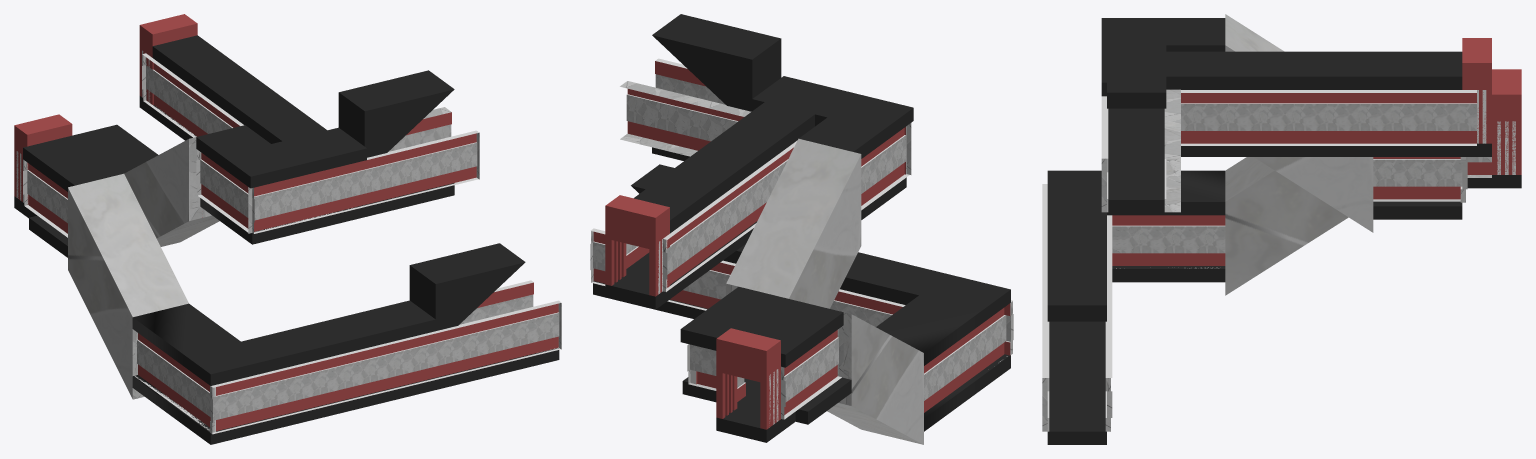
Rendered from Corridor_uv.fbx.
3 renders of one model, left to right at view 1: azimuth 30°, elevation 25°; view 2: azimuth 150°, elevation 25°; view 3: azimuth 270°, elevation 25°, orthographic. The views are drawn at different scales.
Visible parts, largest first — view 1: A_wall_coridor_2x4x6_33, A_wall_coridor_2x4x6_24, A_stairs_coridor_10x14x3_9, A_bridge_coridor_1x4x8_34, A_bridge_coridor_1x4x10_24, A_bridge_coridor_1x4x10_23, A_bridge_coridor_1x4x10_27, A_stairs_coridor_10x14x3_8, A_bridge_coridor_1x4x10_17, A_bridge_coridor_1x4x8_37, A_bridge_coridor_1x4x10_30, A_wall_coridor_2x4x6_18 (+3 smaller); view 2: A_wall_coridor_2x4x6_24, A_stairs_coridor_10x14x3_8, A_bridge_coridor_1x4x8_34, A_bridge_coridor_1x4x10_24, A_stairs_coridor_10x14x3_9, A_wall_coridor_2x4x6_33, A_bridge_coridor_1x4x10_27, A_bridge_coridor_1x4x8_37, A_portal_short_light_cube_5, A_wall_coridor_2x4x6_18, A_portal_short_light_cube_3, A_bridge_coridor_1x4x6_38 (+3 smaller); view 3: A_wall_coridor_2x4x6_24, A_bridge_coridor_1x4x8_34, A_bridge_coridor_1x4x10_30, A_stairs_coridor_10x14x3_9, A_bridge_coridor_1x4x10_17, A_wall_coridor_2x4x6_33, A_bridge_coridor_1x4x10_24, A_stairs_coridor_10x14x3_8, A_wall_coridor_2x4x6_18, A_bridge_coridor_1x4x10_23, A_bridge_coridor_1x4x10_27, A_portal_short_light_cube_5 (+2 smaller).
Part boxes in pixels (x1=…): A_wall_coridor_2x4x6_33: x1=132, y1=280, x2=561, y2=434; A_wall_coridor_2x4x6_24: x1=142, y1=53, x2=479, y2=233; A_stairs_coridor_10x14x3_9: x1=68, y1=173, x2=188, y2=399; A_bridge_coridor_1x4x8_34: x1=152, y1=35, x2=366, y2=188; A_bridge_coridor_1x4x10_24: x1=132, y1=300, x2=435, y2=385; A_bridge_coridor_1x4x10_23: x1=409, y1=243, x2=525, y2=330; A_bridge_coridor_1x4x10_27: x1=338, y1=70, x2=454, y2=157; A_stairs_coridor_10x14x3_8: x1=124, y1=137, x2=219, y2=246; A_bridge_coridor_1x4x10_17: x1=132, y1=348, x2=559, y2=444; A_bridge_coridor_1x4x8_37: x1=23, y1=124, x2=158, y2=191; A_bridge_coridor_1x4x10_30: x1=139, y1=96, x2=454, y2=244; A_wall_coridor_2x4x6_18: x1=23, y1=160, x2=67, y2=237; A_wall_coridor_2x4x6_24: x1=620, y1=58, x2=911, y2=291; A_stairs_coridor_10x14x3_8: x1=726, y1=138, x2=861, y2=308; A_bridge_coridor_1x4x8_34: x1=634, y1=76, x2=913, y2=233; A_bridge_coridor_1x4x10_24: x1=731, y1=244, x2=1010, y2=365; A_stairs_coridor_10x14x3_9: x1=827, y1=312, x2=923, y2=444; A_wall_coridor_2x4x6_33: x1=590, y1=228, x2=1013, y2=412; A_bridge_coridor_1x4x10_27: x1=652, y1=14, x2=781, y2=111; A_bridge_coridor_1x4x8_37: x1=680, y1=286, x2=843, y2=367; A_portal_short_light_cube_5: x1=716, y1=328, x2=780, y2=429; A_wall_coridor_2x4x6_18: x1=687, y1=325, x2=843, y2=419; A_portal_short_light_cube_3: x1=605, y1=195, x2=669, y2=296; A_bridge_coridor_1x4x6_38: x1=682, y1=377, x2=851, y2=442; A_wall_coridor_2x4x6_24: x1=1101, y1=89, x2=1476, y2=212; A_bridge_coridor_1x4x8_34: x1=1101, y1=18, x2=1462, y2=96; A_bridge_coridor_1x4x10_30: x1=1107, y1=108, x2=1491, y2=213; A_stairs_coridor_10x14x3_9: x1=1225, y1=157, x2=1348, y2=295; A_bridge_coridor_1x4x10_17: x1=1047, y1=266, x2=1225, y2=444; A_wall_coridor_2x4x6_33: x1=1042, y1=184, x2=1225, y2=431; A_bridge_coridor_1x4x10_24: x1=1047, y1=170, x2=1225, y2=255; A_stairs_coridor_10x14x3_8: x1=1225, y1=14, x2=1373, y2=232; A_wall_coridor_2x4x6_18: x1=1373, y1=157, x2=1491, y2=202; A_bridge_coridor_1x4x10_23: x1=1047, y1=255, x2=1106, y2=321; A_bridge_coridor_1x4x10_27: x1=1107, y1=42, x2=1166, y2=108; A_portal_short_light_cube_5: x1=1492, y1=69, x2=1521, y2=174.
Size of the model in its own units: 3100 by 2400 by 3236.
